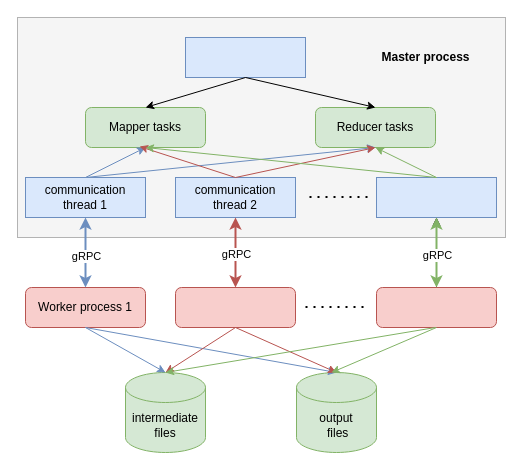
The diagram is 523 pixels wide and 470 high, and some of its shapes have lost their labels. The shapes that lost their labels are listed below. From the top down, each one's box as (x1, y1, x2, y2) in pixels, then its label:
(184, 36, 306, 78): Main thread
(376, 176, 496, 218): communication thread n
(174, 286, 296, 328): Worker process 2
(376, 286, 496, 328): Worker process n
